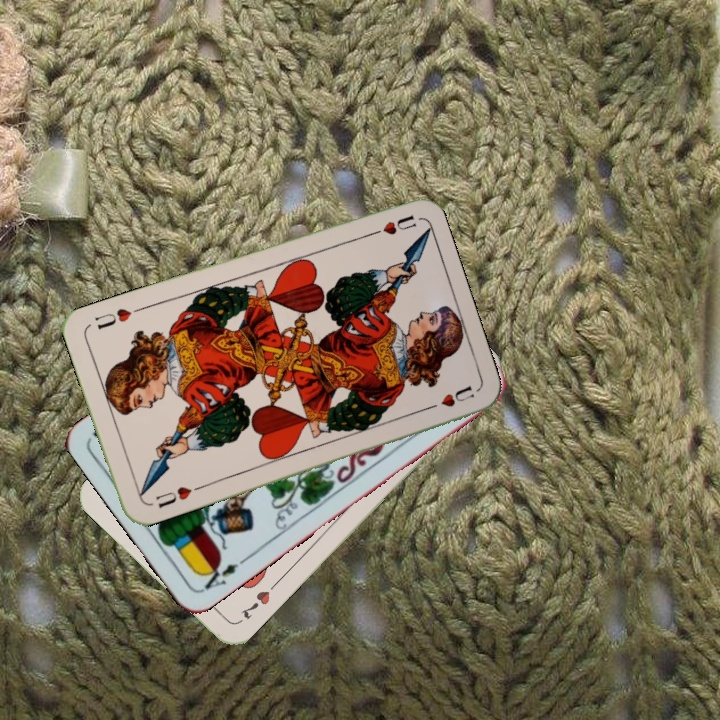EA: (197, 557, 241, 594)
H7: (236, 586, 273, 622)
HU: (361, 211, 420, 240), (152, 482, 194, 511)
